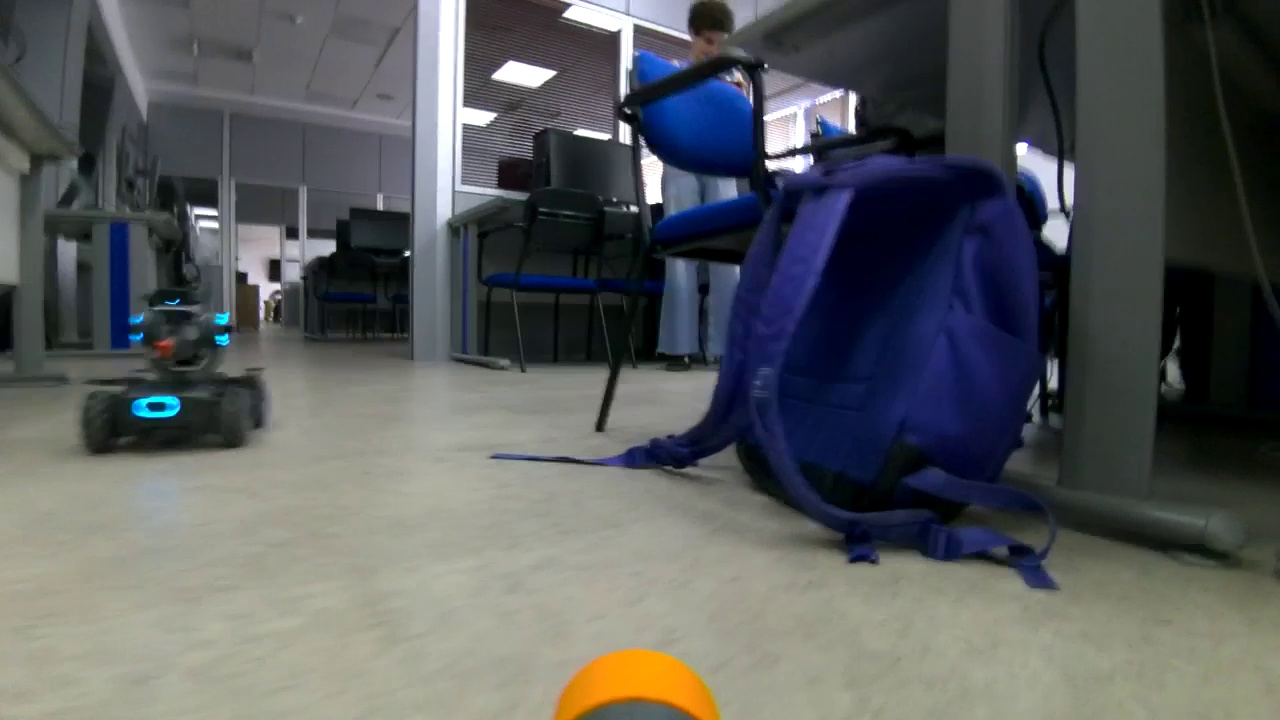robot: (71, 269, 289, 459)
